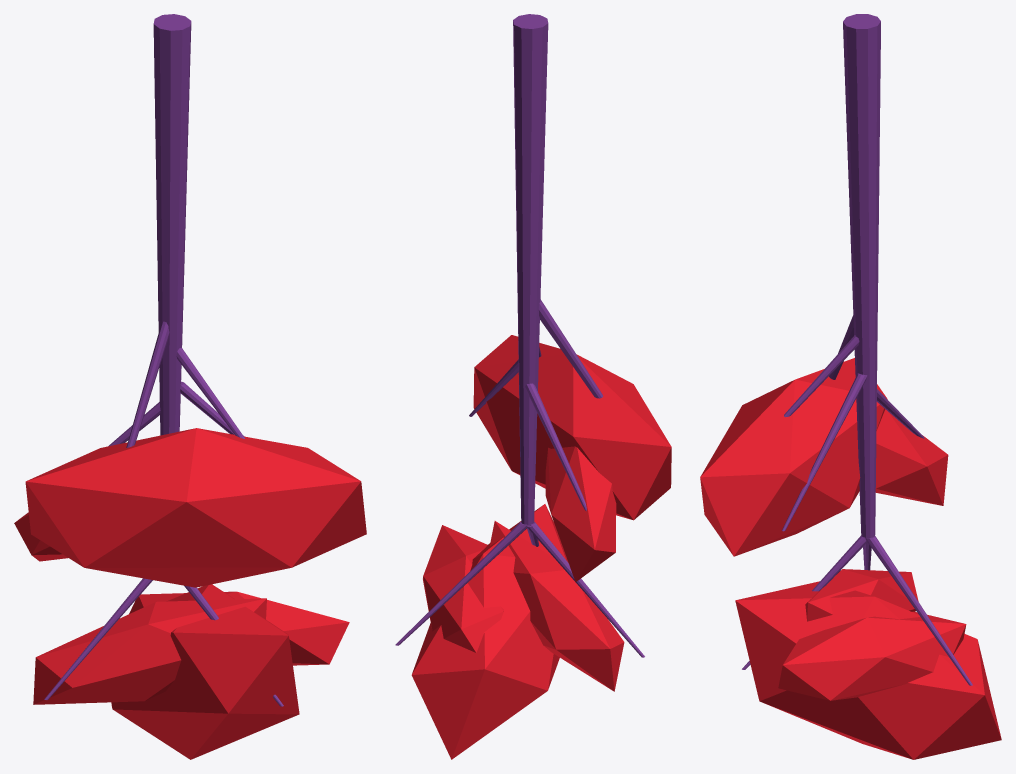
File: tree_2.obj
3 views of the same model, side by side, from view 1: azimuth 30°, elevation 25°; view 2: azimuth 150°, elevation 25°; view 3: azimuth 270°, elevation 25° (orthographic). The views are drawn at different scales.
Visible parts, largest first — view 1: leaves_2_obj_0.003, trunk_2_base_obj_0.007, trunk_2_obj_0.002; view 2: leaves_2_obj_0.003, trunk_2_obj_0.002, trunk_2_base_obj_0.007; view 3: leaves_2_obj_0.003, trunk_2_obj_0.002, trunk_2_base_obj_0.007.
Part boxes in pixels (x1,y1,x2,y2): leaves_2_obj_0.003: [14, 428, 366, 759]; trunk_2_base_obj_0.007: [153, 14, 191, 292]; trunk_2_obj_0.002: [44, 285, 283, 706]; leaves_2_obj_0.003: [411, 335, 671, 759]; trunk_2_obj_0.002: [395, 267, 644, 657]; trunk_2_base_obj_0.007: [513, 14, 548, 272]; leaves_2_obj_0.003: [700, 358, 1001, 759]; trunk_2_obj_0.002: [742, 273, 972, 685]; trunk_2_base_obj_0.007: [843, 14, 880, 280].
Size of the model in its own units: 11.72 by 29.16 by 11.17.
